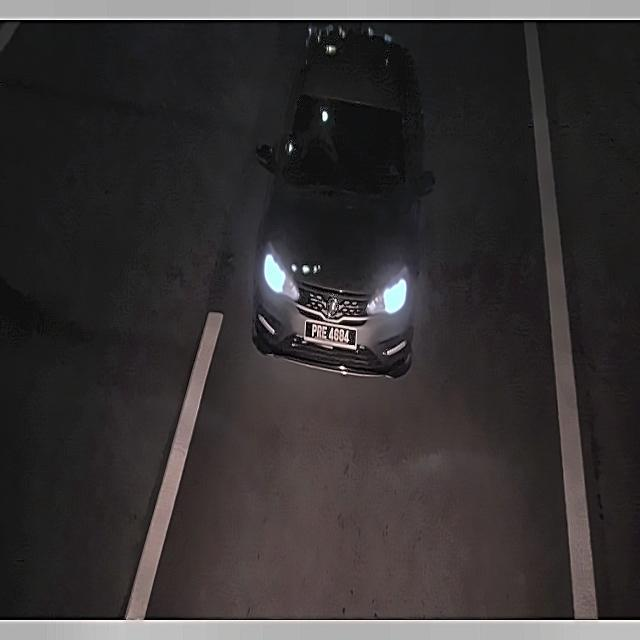car: (302, 315, 361, 351)
